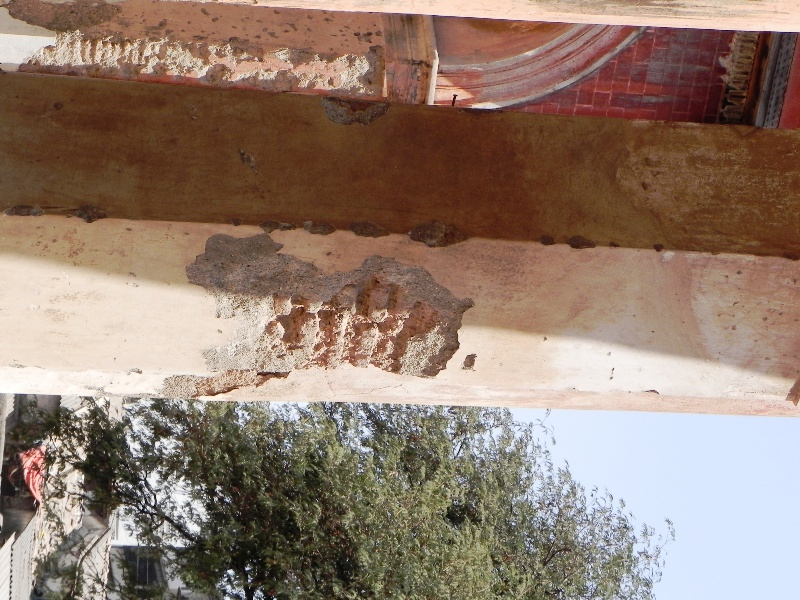Exposed Bricks: (267, 288, 429, 372), (74, 33, 161, 69)
Spalling: (174, 31, 382, 90)
